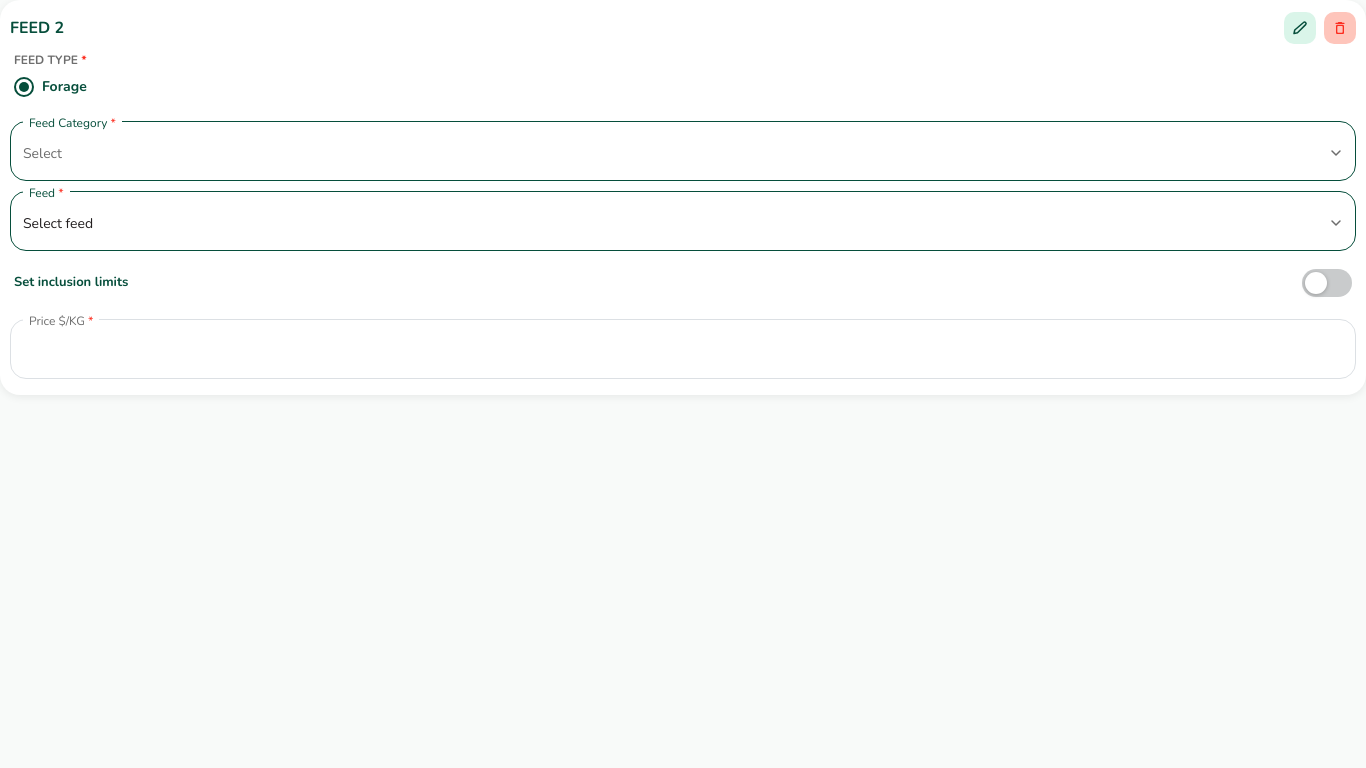
Test: edit dialog — nutrient field layout by category › category=Mineral renders 4 nutrient fields (NPN present=false)
Click the button named "Edit feed nutritional values" at (1300, 28), box [1284, 12, 1316, 44]
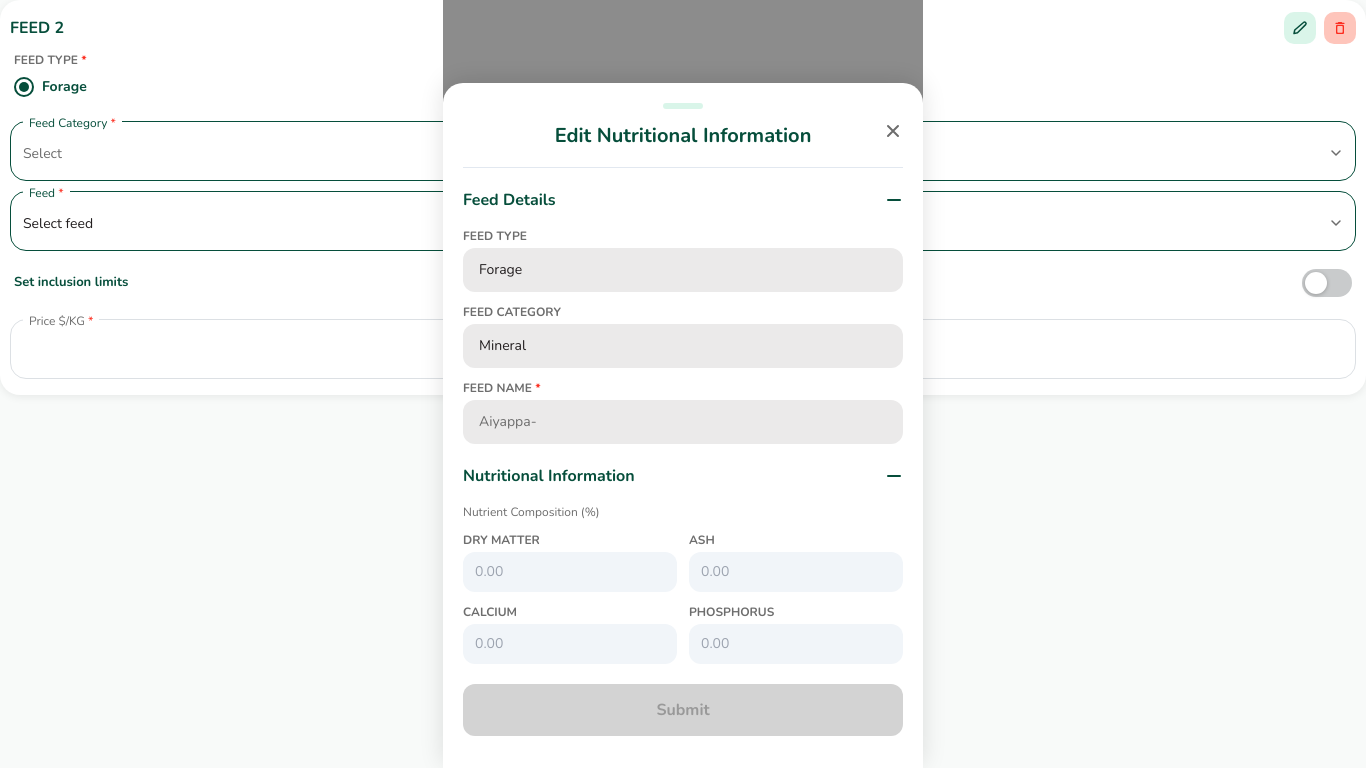
Expected: the heading "Edit Nutritional Information" is shown, [555, 122, 811, 149]
Expected: the element with class "mb-5" is shown, [463, 532, 903, 664]
